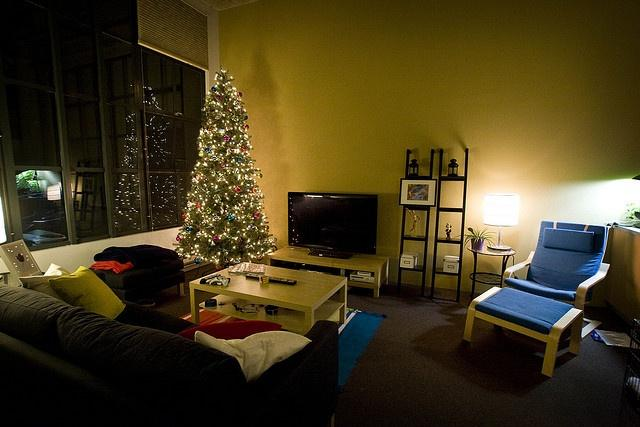AIO PC-Monitor-TV: (286, 190, 378, 259)
Meja: (188, 260, 347, 335)
